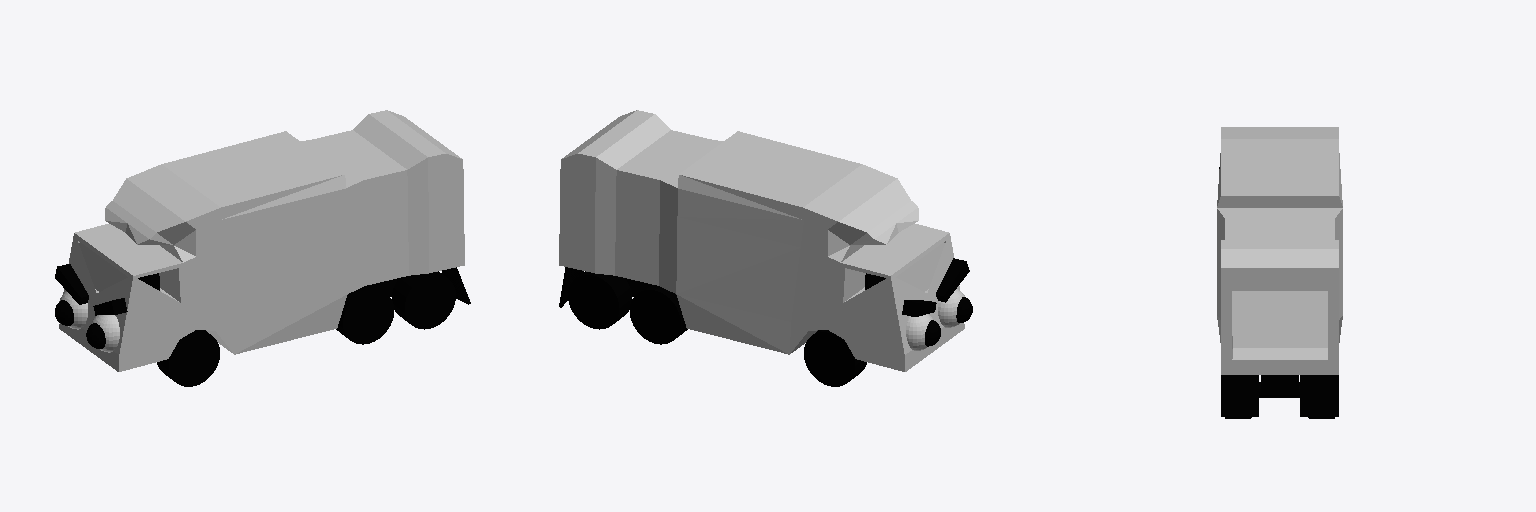
The model's file is garbotruck.obj.
3 renders of one model, left to right at view 1: azimuth 30°, elevation 25°; view 2: azimuth 150°, elevation 25°; view 3: azimuth 270°, elevation 25°, orthographic.
Parts seen in each view (by area): view 1: Plane, Sphere, Sphere.001, Cube.005; view 2: Plane, Sphere.001, Sphere, Cube.004; view 3: Plane, Plane.001, Plane.002, Cylinder.
Boxes of the visible parts, x1=… form: Plane: x1=59, y1=110, x2=464, y2=386; Sphere: x1=86, y1=315, x2=119, y2=352; Sphere.001: x1=55, y1=292, x2=87, y2=329; Cube.005: x1=55, y1=264, x2=88, y2=304; Plane: x1=559, y1=110, x2=964, y2=386; Sphere.001: x1=906, y1=314, x2=940, y2=350; Sphere: x1=938, y1=289, x2=972, y2=327; Cube.004: x1=936, y1=258, x2=969, y2=302; Plane: x1=1217, y1=127, x2=1342, y2=418; Plane.001: x1=1300, y1=375, x2=1338, y2=416; Plane.002: x1=1221, y1=375, x2=1258, y2=416; Cylinder: x1=1259, y1=375, x2=1299, y2=397.
Bounding box in the file's own units: 5.1 × 2.33 × 1.5.